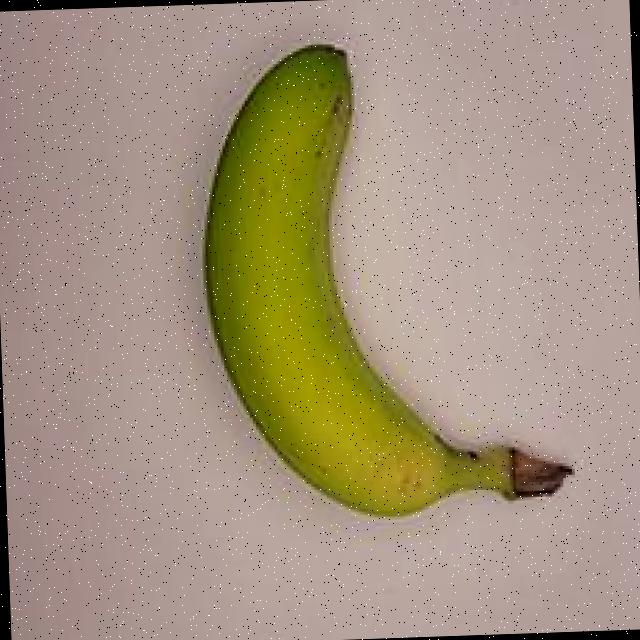Unripe: (154, 2, 582, 560)
